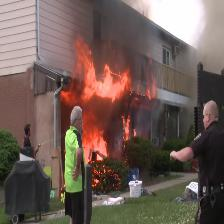fire: (50, 24, 162, 198)
smoke: (119, 0, 224, 79)
